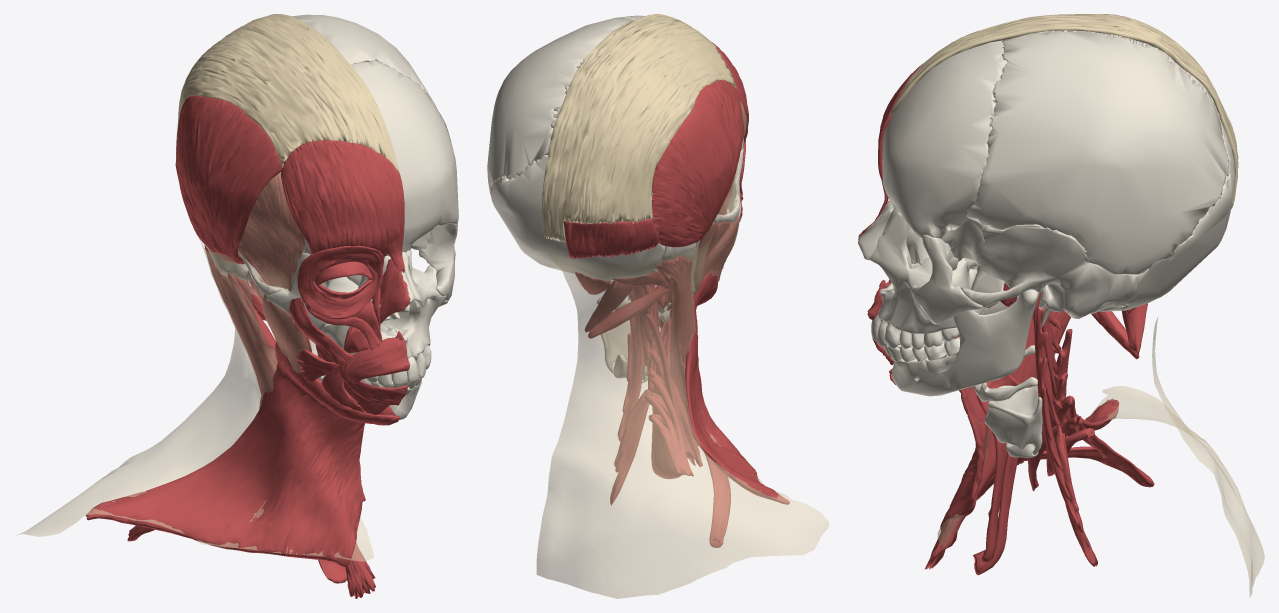
File: head-neck.glb
3 views of the same model, side by side, from view 1: azimuth 30°, elevation 25°; view 2: azimuth 150°, elevation 25°; view 3: azimuth 270°, elevation 25° (orthographic). The views are drawn at different scales.
Visible parts, largest first — view 1: Platysma.r, Epicranial aponeurosis.r, Superficial investing cervical fascia.r, Temporoparietalis muscle.r, Frontalis muscle.r, Frontal bone, Superficial layer of temporal fascia.r, Temporalis muscle.r, Sternocleidomastoid muscle.r, Orbital part of orbicularis oculi.r, Parietal bone.l, Orbicularis oris muscle.r (+14 smaller); view 2: Superficial investing cervical fascia.r, Epicranial aponeurosis.r, Temporoparietalis muscle.r, Parietal bone.l, Occipital bone, Platysma.r, Longus colli muscle.r, Occipitalis muscle.r, Sternocleidomastoid muscle.r, Masseteric fascia.r, Scalenus posterior muscle.r, Omohyoid muscle.r (+12 smaller); view 3: Parietal bone.l, Frontal bone, Temporal bone.l, Mandible, Epicranial aponeurosis.r, Superficial investing cervical fascia.r, Maxilla.l, Occipital bone, Longus colli muscle.r, Platysma.r, Zygomatic bone.l, Thyroid cartilage (+14 smaller).
Boxes of the visible parts, left/top/right/bottom form: Platysma.r: left=86, top=341, right=399, bottom=567; Epicranial aponeurosis.r: left=176, top=14, right=399, bottom=172; Superficial investing cervical fascia.r: left=17, top=238, right=374, bottom=561; Temporoparietalis muscle.r: left=176, top=95, right=282, bottom=264; Frontalis muscle.r: left=281, top=140, right=404, bottom=255; Frontal bone: left=279, top=60, right=458, bottom=256; Superficial layer of temporal fascia.r: left=238, top=172, right=305, bottom=292; Temporalis muscle.r: left=238, top=173, right=305, bottom=290; Sternocleidomastoid muscle.r: left=204, top=245, right=375, bottom=598; Orbital part of orbicularis oculi.r: left=297, top=245, right=383, bottom=319; Parietal bone.l: left=292, top=14, right=448, bottom=132; Orbicularis oris muscle.r: left=340, top=337, right=409, bottom=405; Superficial investing cervical fascia.r: left=536, top=221, right=829, bottom=598; Epicranial aponeurosis.r: left=542, top=14, right=736, bottom=242; Temporoparietalis muscle.r: left=651, top=79, right=743, bottom=247; Parietal bone.l: left=487, top=17, right=633, bottom=195; Occipital bone: left=490, top=155, right=665, bottom=280; Platysma.r: left=665, top=270, right=789, bottom=504; Longus colli muscle.r: left=610, top=285, right=653, bottom=505; Occipitalis muscle.r: left=563, top=218, right=659, bottom=259; Sternocleidomastoid muscle.r: left=655, top=255, right=695, bottom=465; Masseteric fascia.r: left=692, top=213, right=740, bottom=290; Scalenus posterior muscle.r: left=644, top=374, right=693, bottom=476; Omohyoid muscle.r: left=665, top=316, right=730, bottom=547; Parietal bone.l: left=966, top=30, right=1229, bottom=274; Frontal bone: left=882, top=40, right=1007, bottom=238; Temporal bone.l: left=961, top=224, right=1138, bottom=327; Mandible: left=890, top=289, right=1039, bottom=396; Epicranial aponeurosis.r: left=889, top=14, right=1238, bottom=209; Superficial investing cervical fascia.r: left=937, top=316, right=1264, bottom=597; Maxilla.l: left=870, top=209, right=969, bottom=333; Occipital bone: left=1099, top=120, right=1234, bottom=311; Longus colli muscle.r: left=1035, top=306, right=1097, bottom=566; Platysma.r: left=889, top=368, right=1119, bottom=530; Zygomatic bone.l: left=911, top=235, right=982, bottom=324; Thyroid cartilage: left=984, top=378, right=1042, bottom=454.
Size of the model in its own units: 0.245 by 0.3363 by 0.2166.
